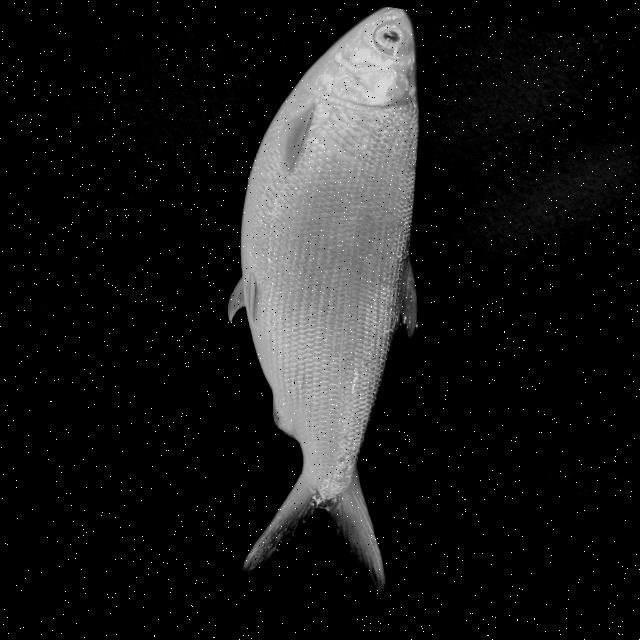675 g: (180, 0, 477, 611)
